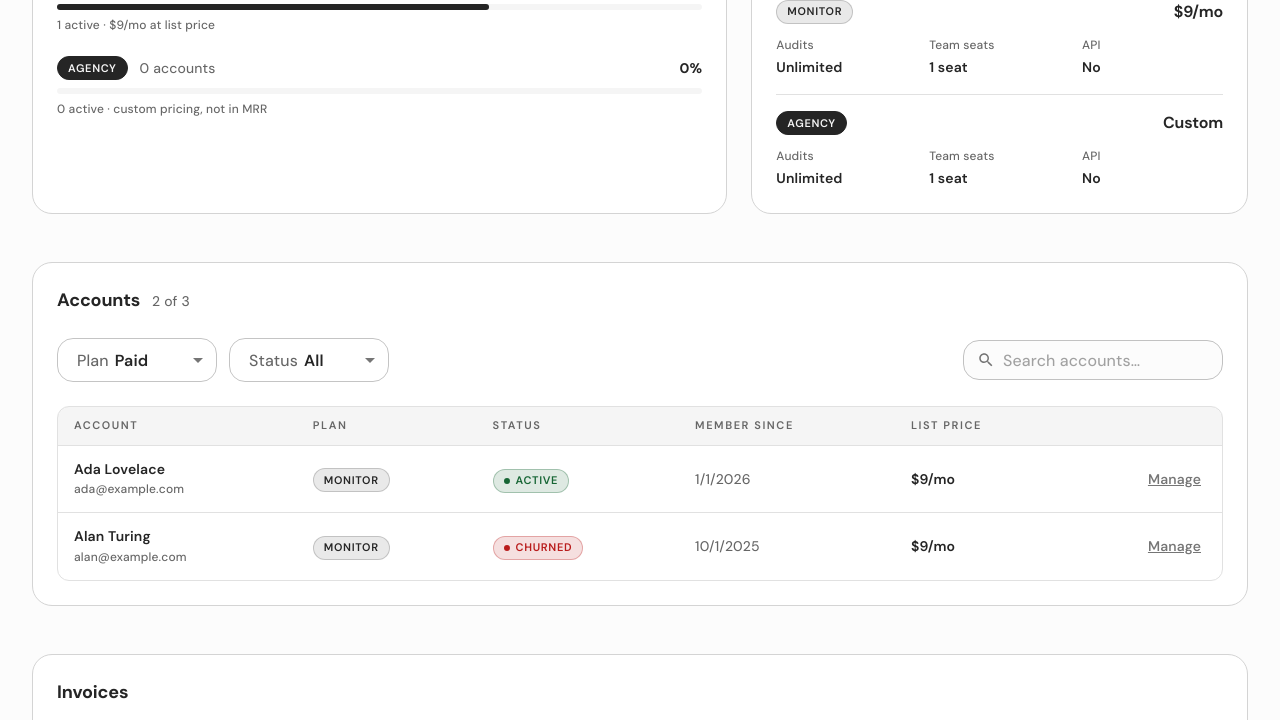
Test: BillingManagement › shows paid accounts by default and all accounts after switching the plan filter
(page scrolled)
Expected: the text "Ada Lovelace" is shown, [74, 460, 165, 478]
Expected: the text "Alan Turing" is shown, [74, 527, 151, 545]
Click the dropdown labelled "Plan" at (113, 360), box [77, 350, 148, 371]
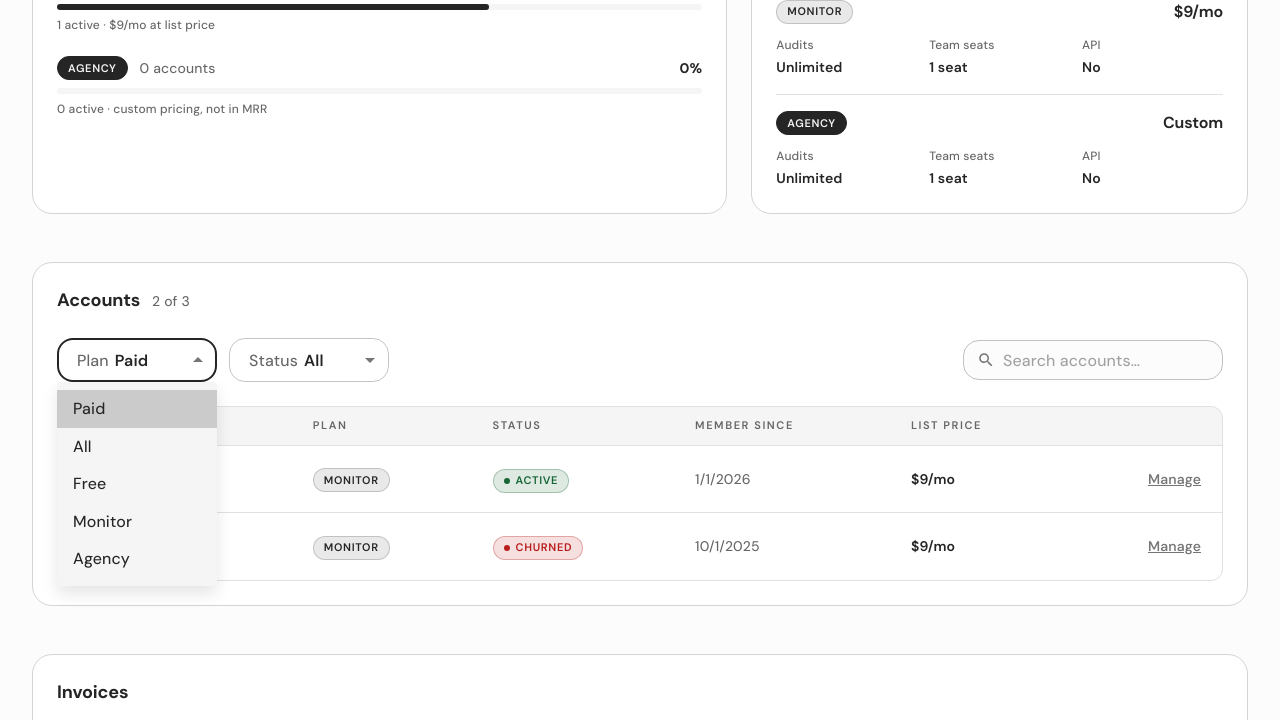
Click the option "All" at (82, 446), box [73, 436, 92, 457]
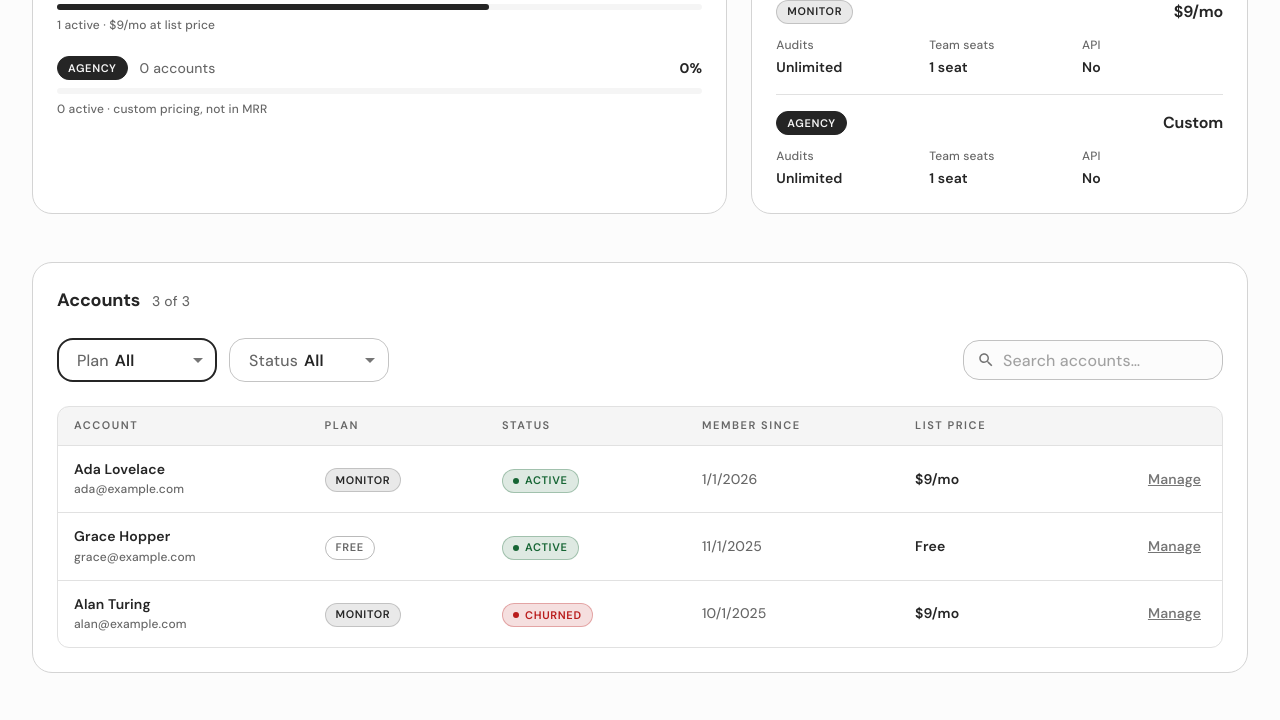
Now the text "Grace Hopper" is shown, box [74, 527, 170, 545]
